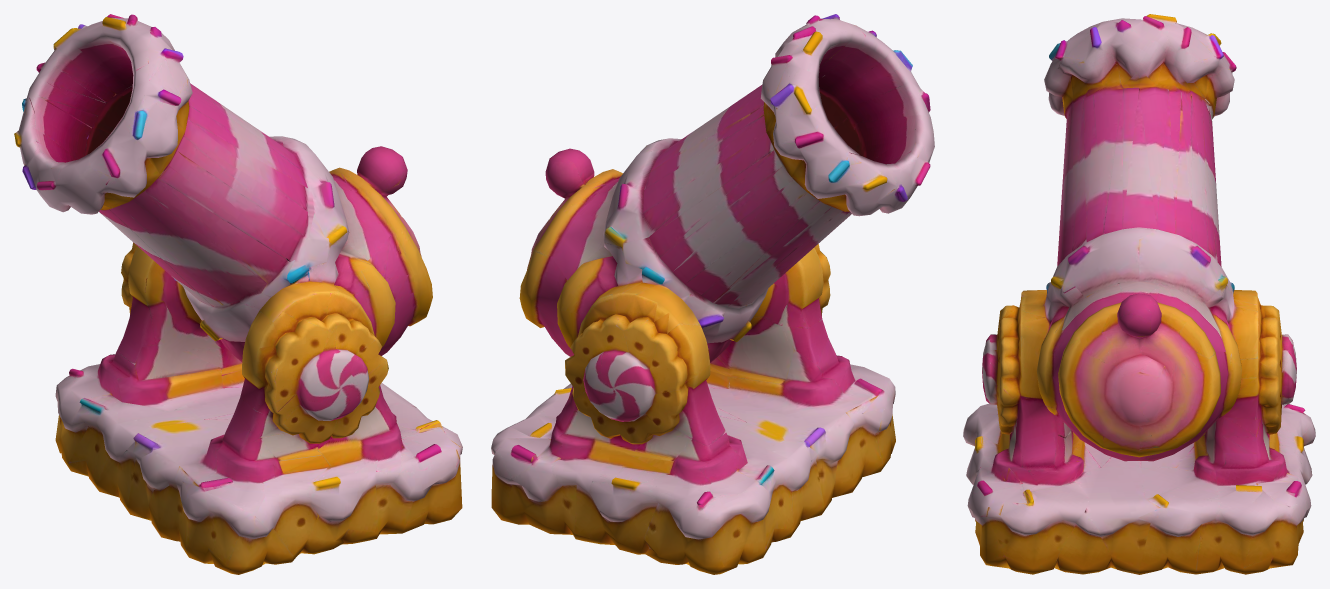
The model's file is candy_cannon.glb.
3 renders of one model, left to right at view 1: azimuth 30°, elevation 25°; view 2: azimuth 150°, elevation 25°; view 3: azimuth 270°, elevation 25°, orthographic. The views are drawn at different scales.
Size of what is drawn, in the model's own units: 0.8054 by 1 by 0.7113.
Materials: 1 (1 with a texture image).
